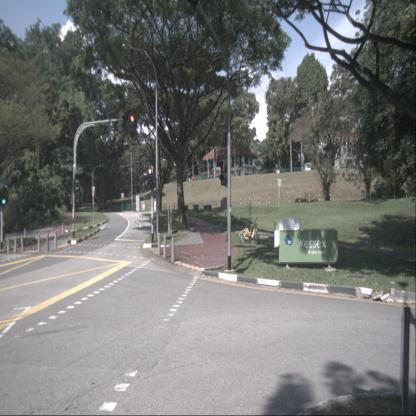vehicle-bicycle: (239, 216, 260, 247), (244, 217, 256, 243)
vehicle-car: (303, 162, 311, 172)
